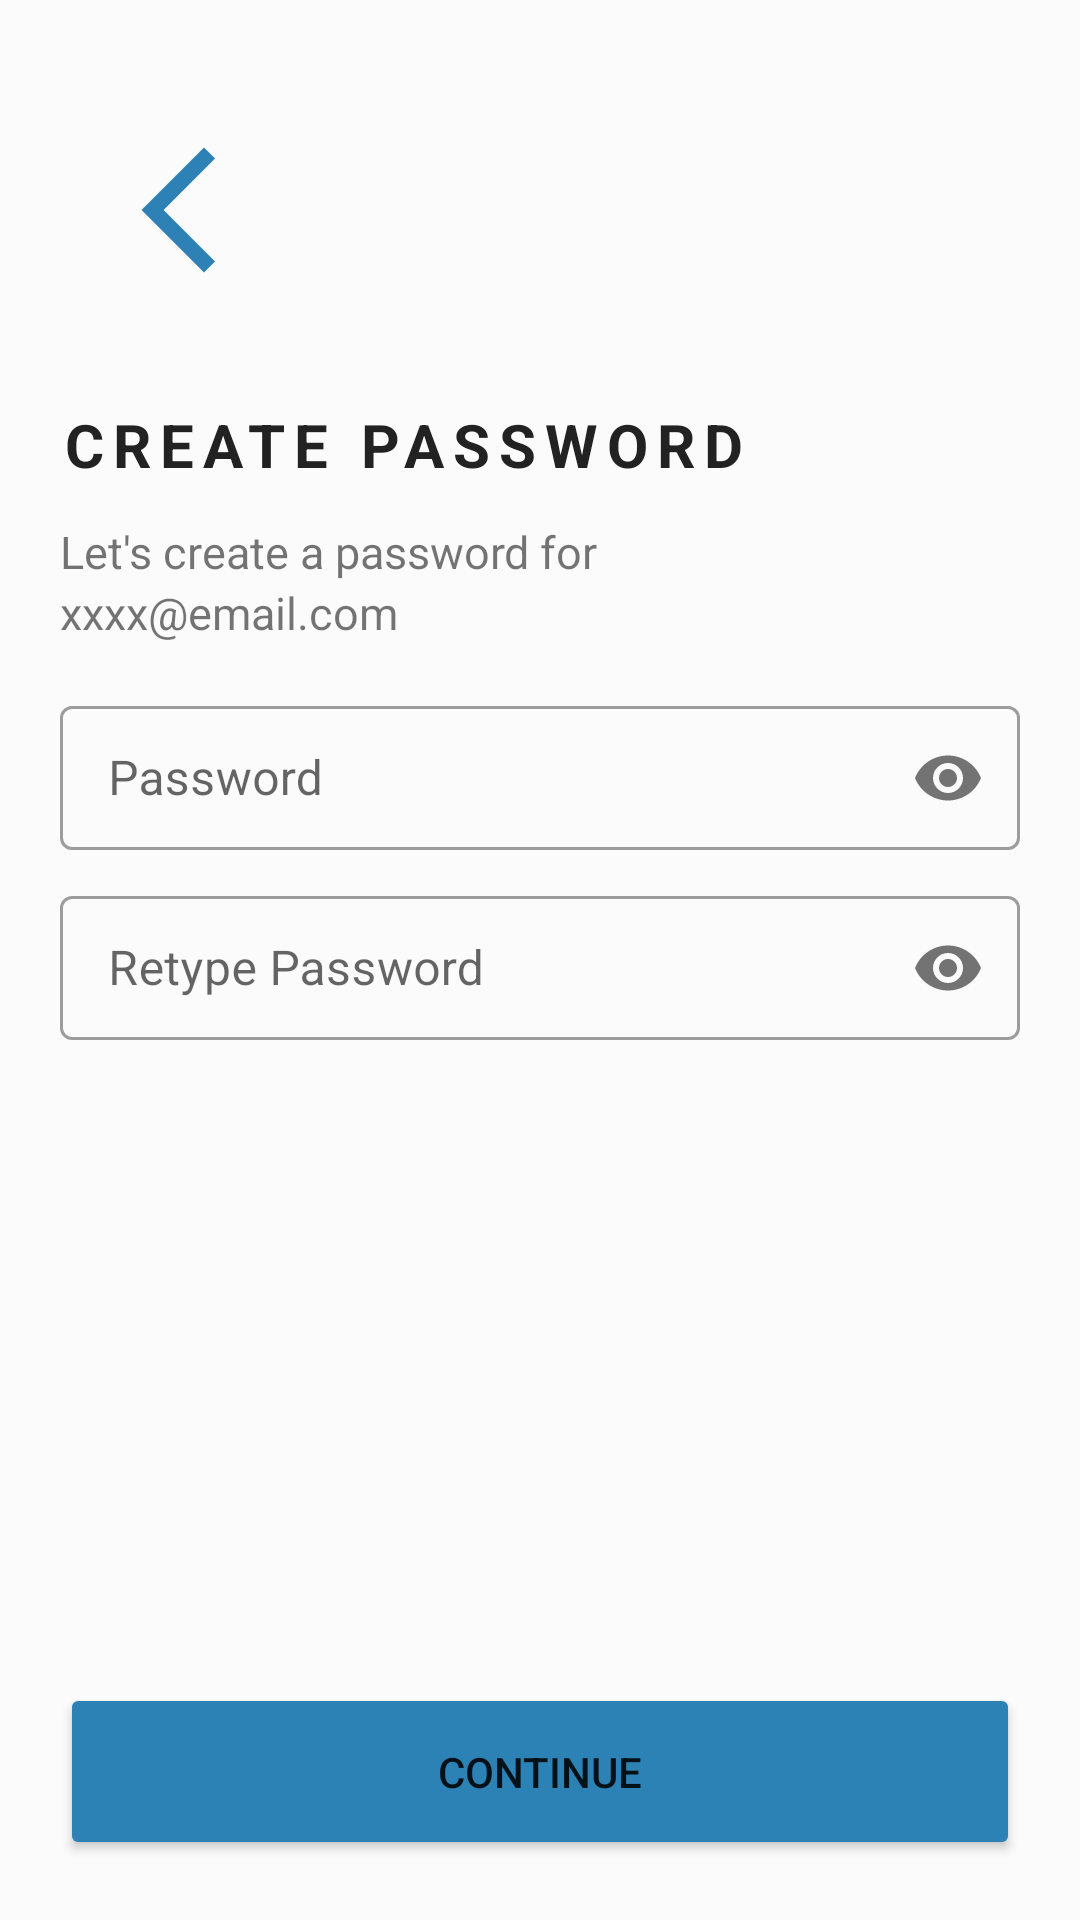

Where icons sit on this 1080px×1920px app screen, as (x1, y1, x2, y2):
back: (141, 147, 215, 273)
